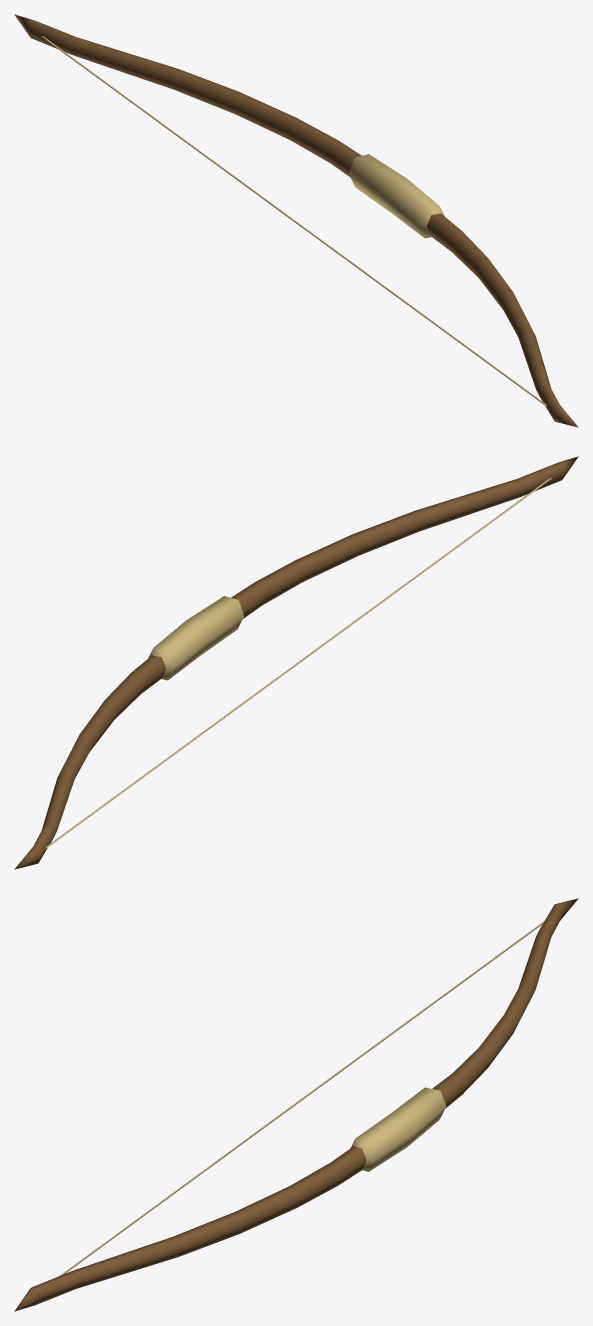
Rendered from obj_bow.FBX.
3 renders of one model, top to bottom at view 1: azimuth 30°, elevation 25°; view 2: azimuth 150°, elevation 25°; view 3: azimuth 330°, elevation 25°, orthographic.
Parts seen in each view (by area): view 1: obj_bow; view 2: obj_bow; view 3: obj_bow.
Part boxes in pixels (x1,y1,x2,y2): obj_bow: (14, 14, 578, 427); obj_bow: (14, 456, 578, 869); obj_bow: (14, 898, 578, 1311).
Bounding box in the file's own units: 0.6819 × 0.1662 × 5.41.
